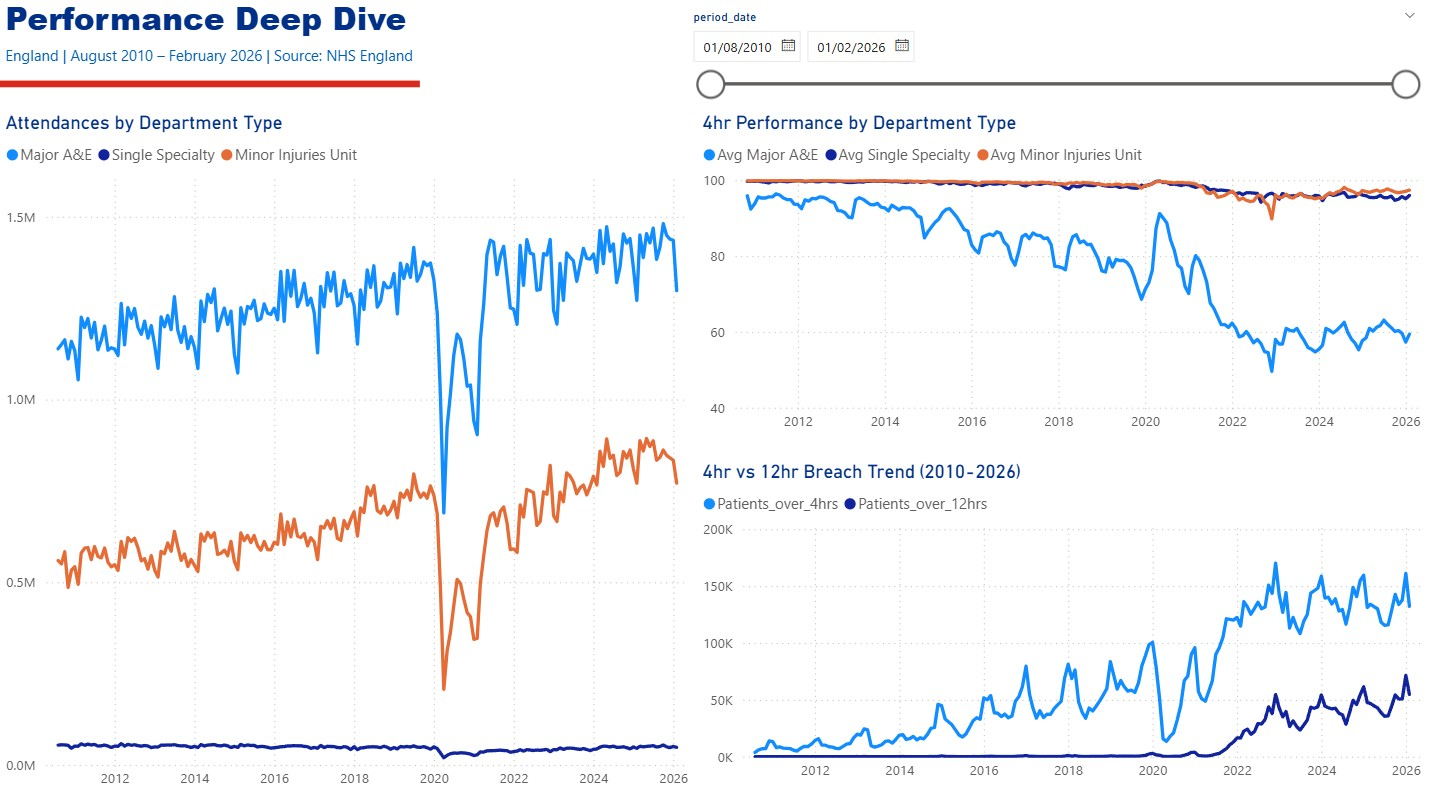

This screenshot's page, from the dashboard's own definition file:
{"tool":"powerbi","page":{"name":"Performance Deep Dive","canvas":[1280,720],"ordinal":1},"visuals":[{"type":"lineChart","title":"4hr vs 12hr Breach Trend (2010-2026)","fields":{"Category":["ae_monthly.period_date"],"Y":["Sum(ae_monthly.patients_over_4hrs)","Sum(ae_monthly.patients_over_12hrs)"]},"box":[624,416,656,296],"z":0},{"type":"lineChart","title":"Attendances by Department Type","fields":{"Category":["ae_monthly.period_date"],"Y":["Sum(ae_monthly.major_ae_attendances)","Sum(ae_monthly.single_specialty_attendances)","Sum(ae_monthly.minor_injuries_attendances)"]},"box":[0,104,624,616],"z":1000},{"type":"slicer","fields":{"Values":["ae_monthly.period_date"]},"box":[608,8,672,96],"z":2000},{"type":"textbox","title":"Performance Deep Dive","box":[0,0,496,80],"z":3000},{"type":"shape","box":[0,72,376,16],"z":5000},{"type":"lineChart","title":"4hr Performance by Department Type","fields":{"Category":["ae_performance.period_date"],"Y":["Avg(ae_performance.pct_within_4hrs_major_ae)","Avg(ae_performance.pct_within_4hrs_single_specialty)","Avg(ae_performance.pct_within_4hrs_minor_injuries)"]},"box":[624,104,656,296],"z":6000}]}

Visuals, with their boxes in screenshot pixels (x1, y1, x2, y2), scaled from the page's 1280x720 canvas onto the 1429x792 screenshot:
"4hr vs 12hr Breach Trend (2010-2026)" lineChart: {"x1": 697, "y1": 458, "x2": 1428, "y2": 783}
"Attendances by Department Type" lineChart: {"x1": 0, "y1": 114, "x2": 697, "y2": 791}
slicer - ae_monthly.period_date: {"x1": 679, "y1": 9, "x2": 1428, "y2": 114}
"Performance Deep Dive" textbox: {"x1": 0, "y1": 0, "x2": 554, "y2": 88}
shape: {"x1": 0, "y1": 79, "x2": 420, "y2": 97}
"4hr Performance by Department Type" lineChart: {"x1": 697, "y1": 114, "x2": 1428, "y2": 440}
